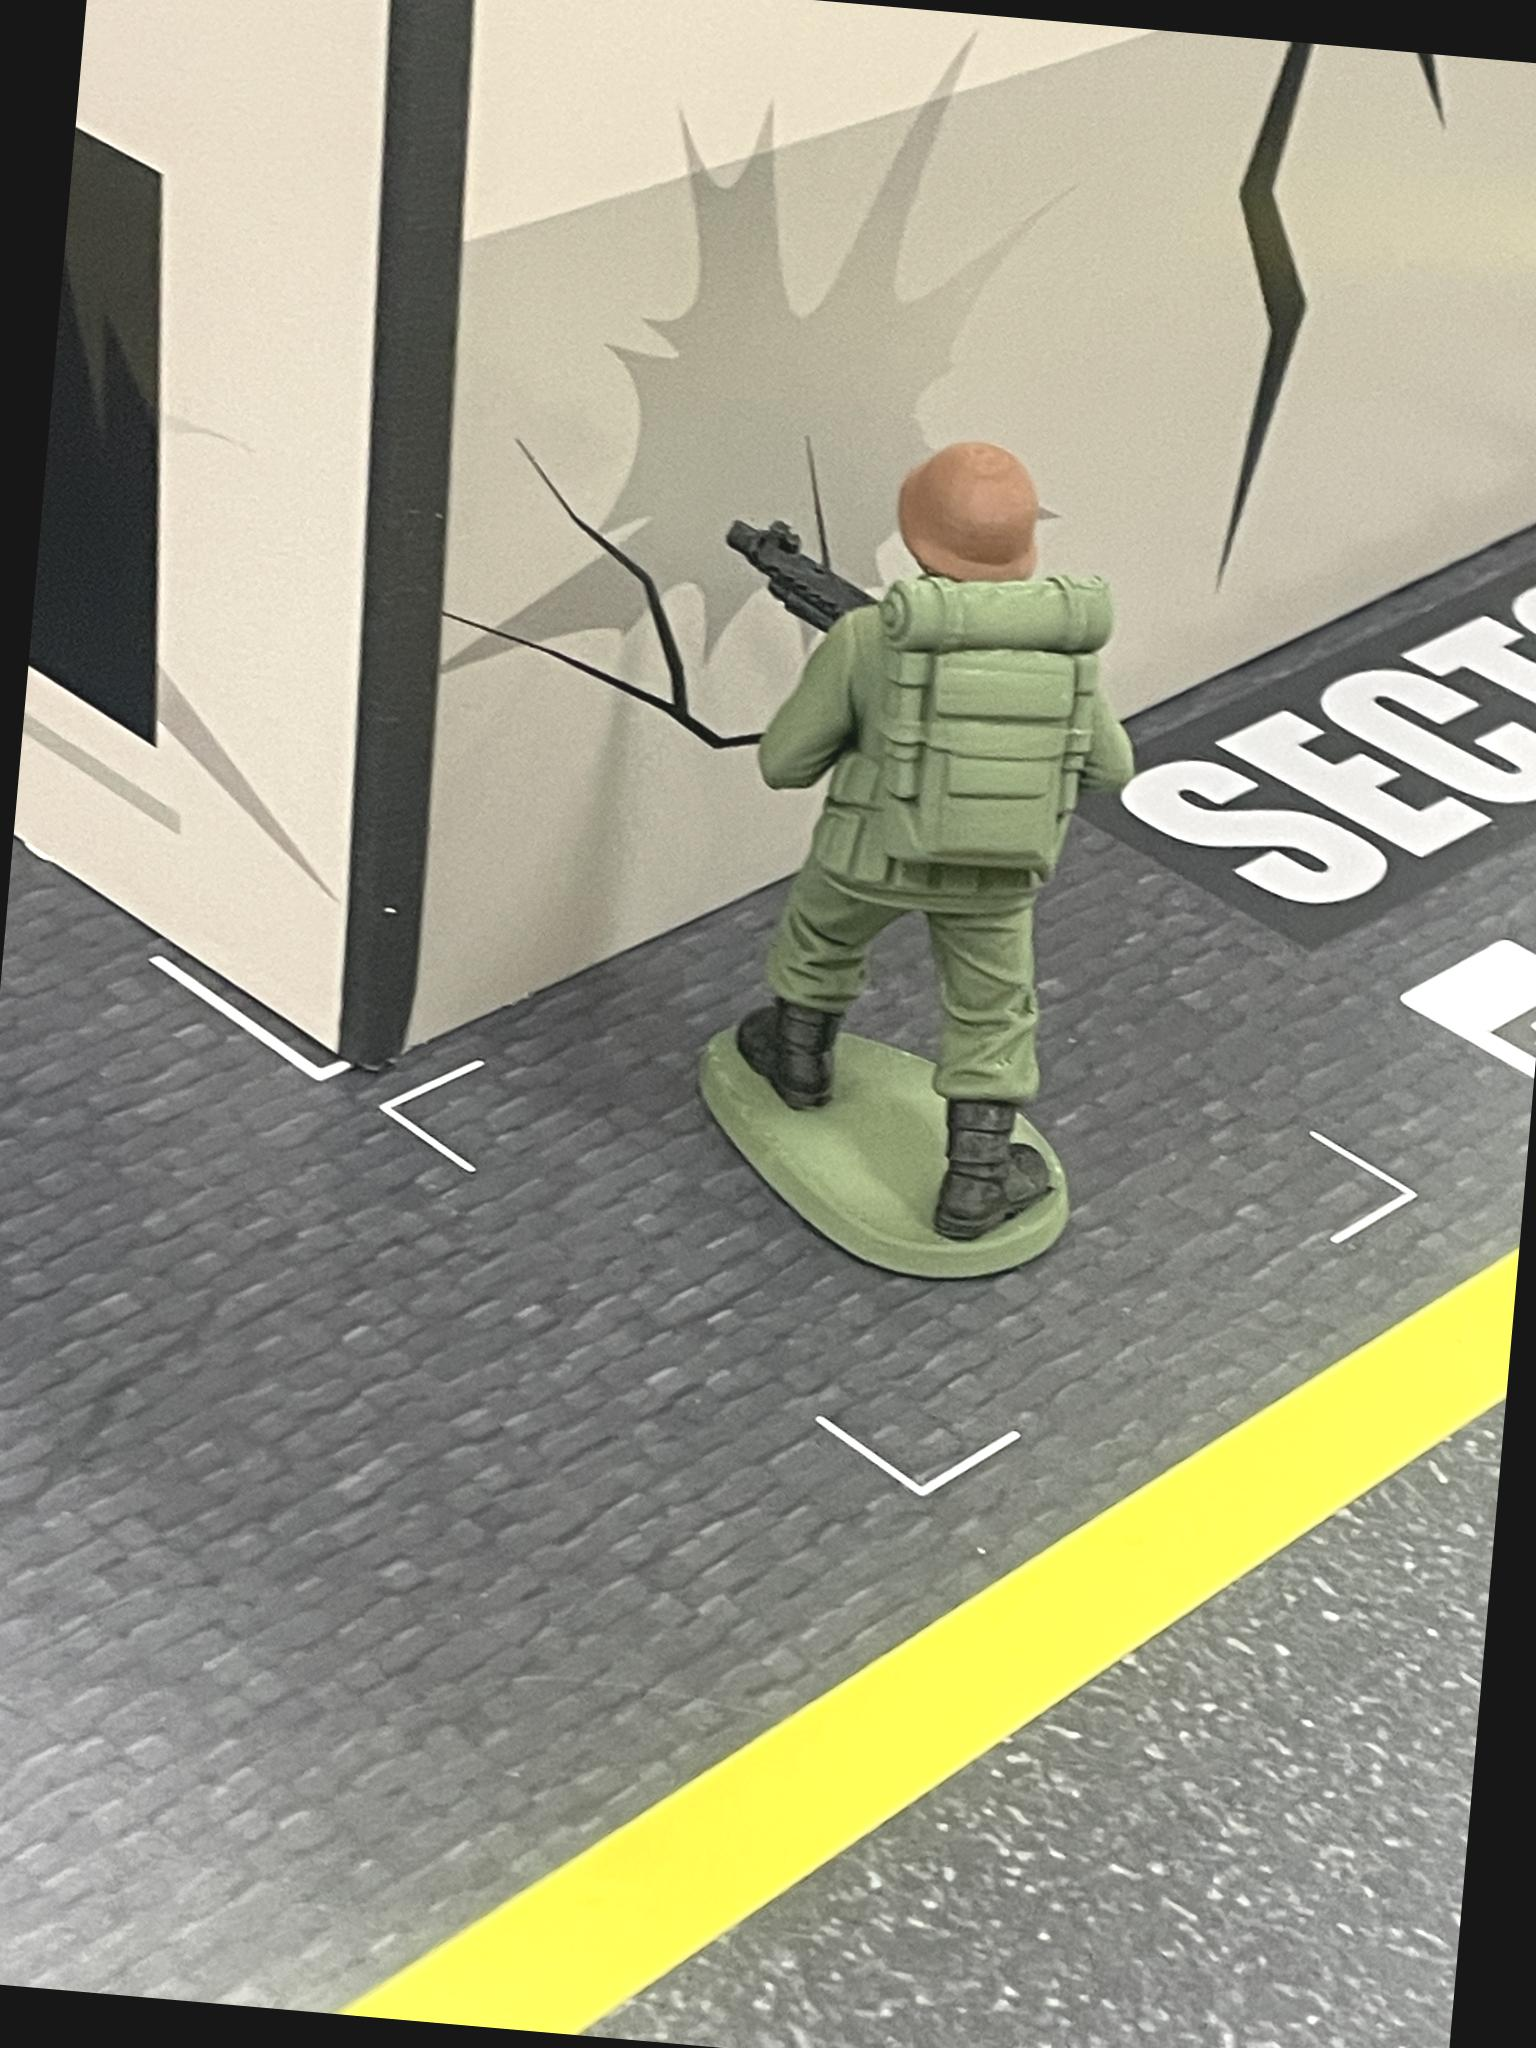Enemy: (636, 397, 1157, 1311)
